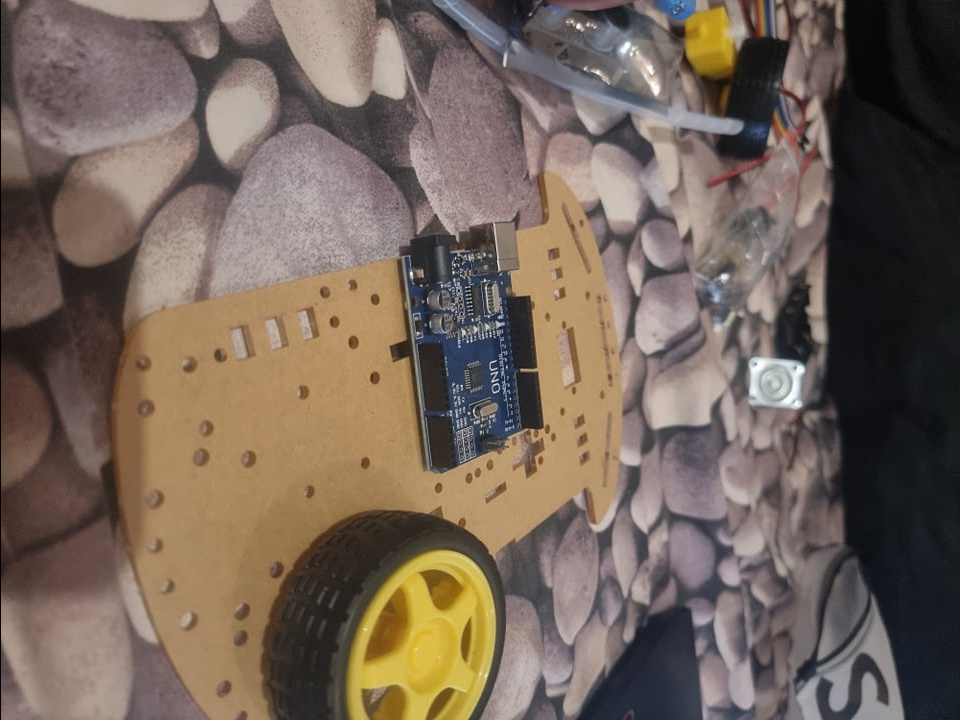5V EXPANSION: (403, 220, 542, 480)
BATTERY BOX: (774, 280, 819, 361)
